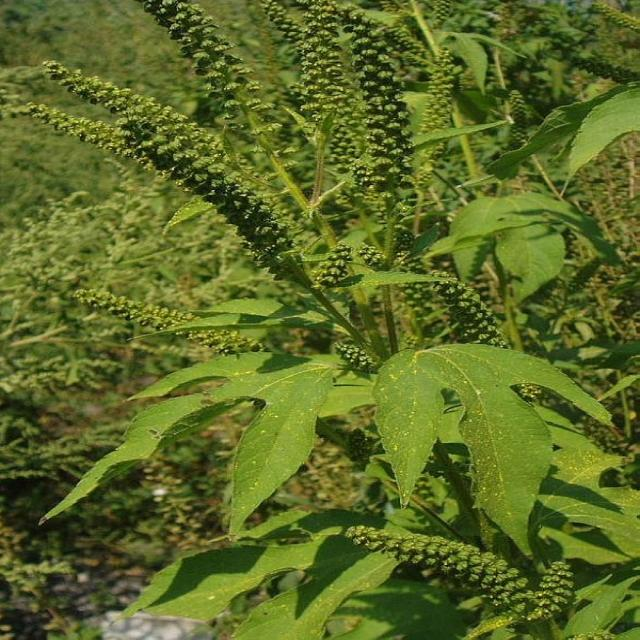ambrosia: (124, 239, 640, 614), (24, 52, 328, 297), (313, 1, 504, 228)
